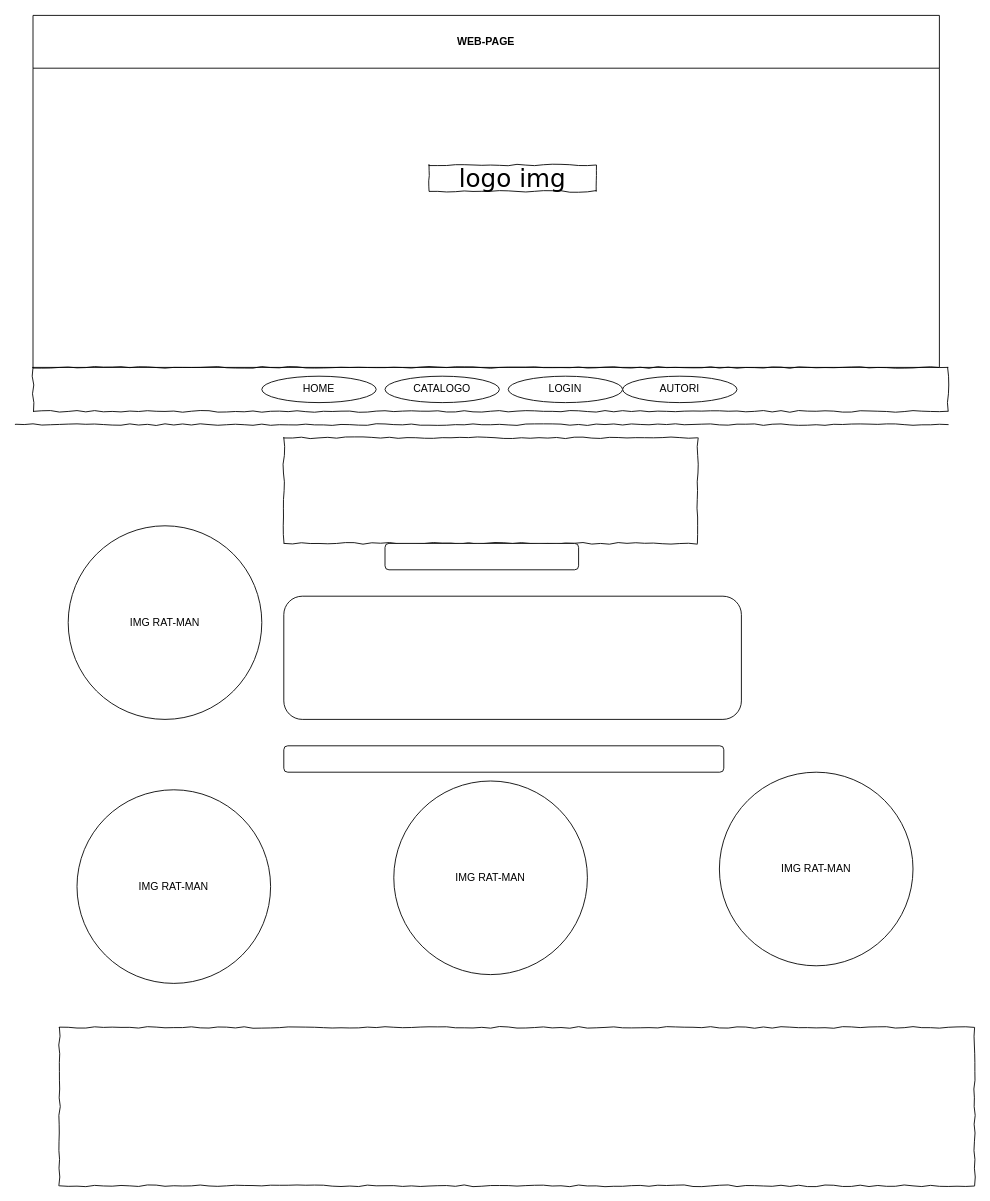
Image size: 990x1201. Some labels were removed from this diagram. The centre of each missing label's shape, as x and y in pixels:
"ALLEATI E AMICI DI RAT-MAN" belongs at (x=503, y=758).
"FOOTER" belongs at (x=517, y=1106).
"PROGETTO" belongs at (x=490, y=490).
"STORIA RAT-MAN" belongs at (x=512, y=657).
"VAI AL CATALOGO!" belongs at (x=481, y=556).
